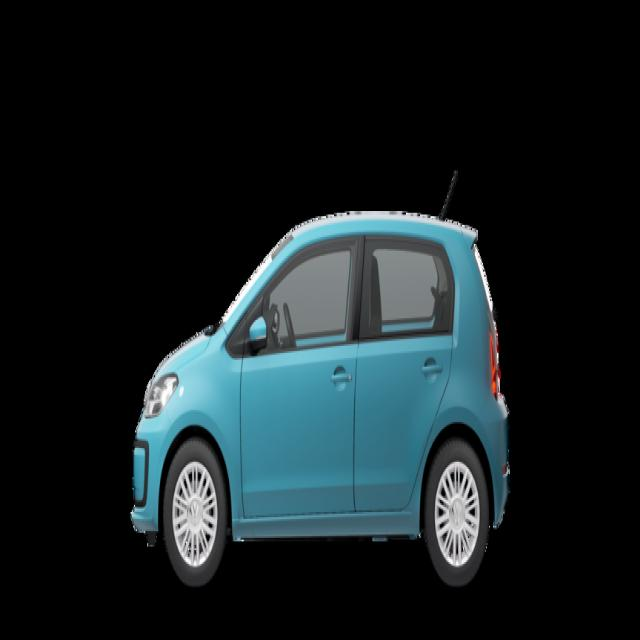yolov7-seg-car: (131, 170, 510, 589)
